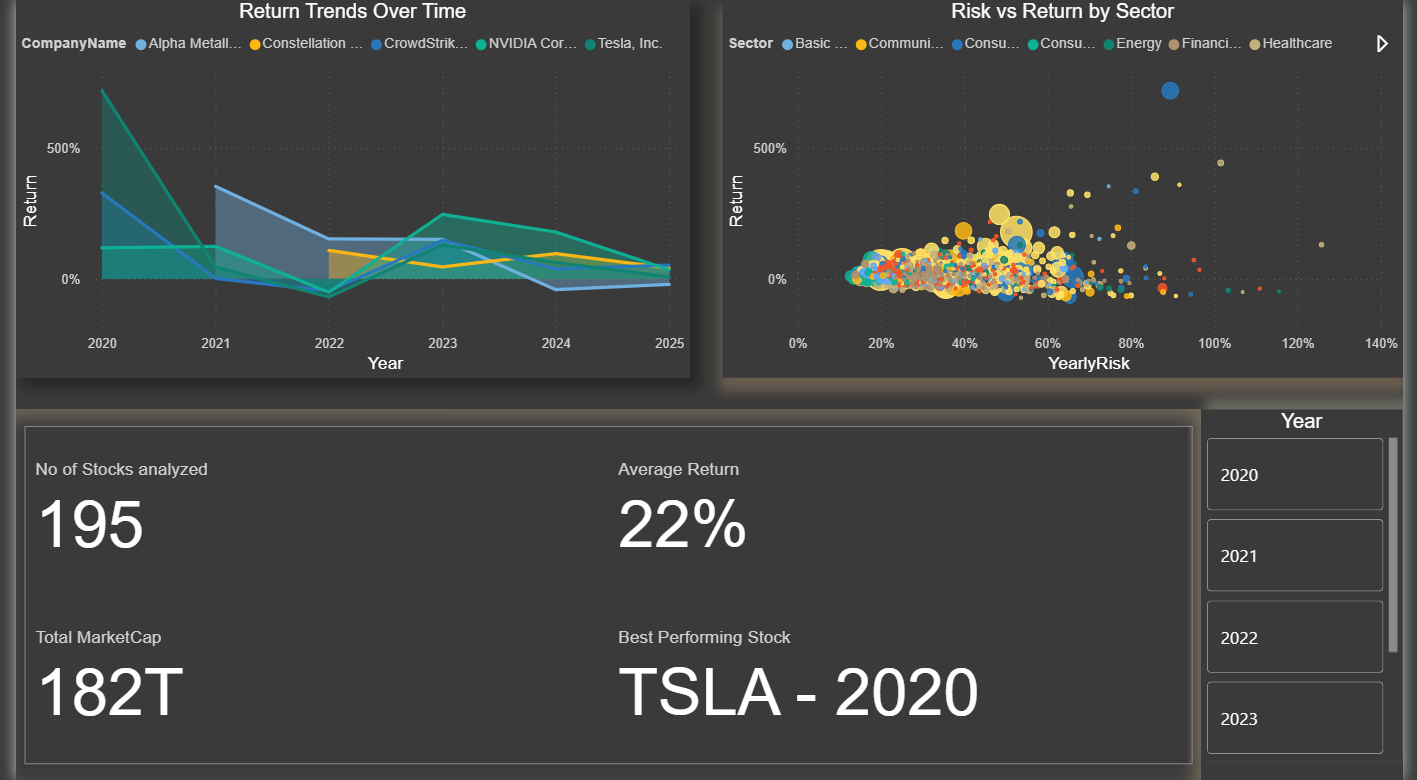

The dashboard page shown, as its layout file describes it:
{"tool":"powerbi","page":{"name":"Executive dashboard","canvas":[1280,720],"ordinal":0},"visuals":[{"type":"lineChart","title":"Return Trends Over Time","fields":{"Category":["stock_metrics_yearly.Year"],"Y":["Avg(stock_metrics_yearly.Annual_TSR)"],"Series":["stock_metrics_yearly.CompanyName"]},"box":[0,0,621.7,348.3],"z":0},{"type":"scatterChart","title":"Risk vs Return by Sector","fields":{"Y":["stock_metrics_yearly.Annual_TSR"],"Size":["Sum(stock_metrics_yearly.MarketCap)"],"X":["stock_metrics_yearly.AnnualVolatility"],"Series":["stock_metrics_yearly.Sector"]},"box":[651.7,0,628.3,348.3],"z":1000},{"type":"cardVisual","fields":{"Data":["Count(stock_metrics_yearly.Ticker)","Avg(stock_metrics_yearly.Annual_TSR)","Sum(stock_metrics_yearly.MarketCap)","stock_metrics_yearly.Best Performing Stock"]},"box":[0,378,1094,342],"z":2000},{"type":"advancedSlicerVisual","fields":{"Values":["stock_metrics_yearly.Year"]},"box":[1094,378,186,324],"z":3000}]}

Visuals, with their boxes in screenshot pixels (x1, y1, x2, y2), scaled from the page's 1280x720 canvas onto the 1417x780 screenshot:
"Return Trends Over Time" lineChart: rect(0, 0, 688, 377)
"Risk vs Return by Sector" scatterChart: rect(721, 0, 1416, 377)
cardVisual - Count(stock_metrics_yearly.Ticker) x Avg(stock_metrics_yearly.Annual_TSR): rect(0, 410, 1211, 779)
advancedSlicerVisual - stock_metrics_yearly.Year: rect(1211, 410, 1416, 760)
